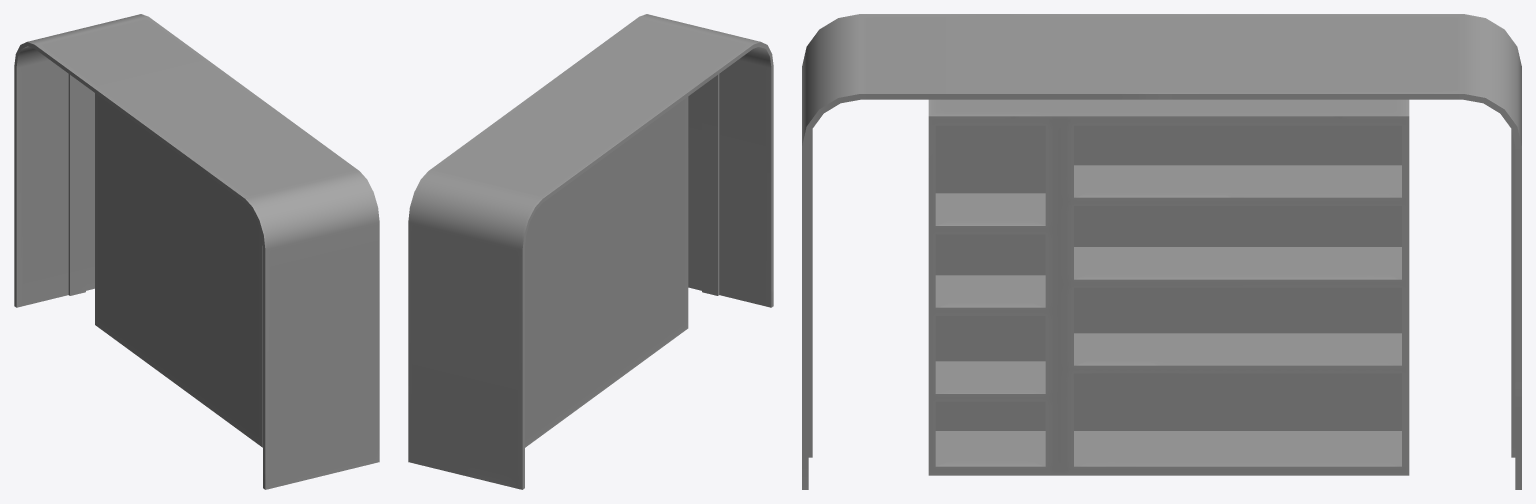
File: ShowRack.fbx
3 views of the same model, side by side, from view 1: azimuth 30°, elevation 25°; view 2: azimuth 150°, elevation 25°; view 3: azimuth 270°, elevation 25° (orthographic). The views are drawn at different scales.
Visible parts, largest first — view 1: ShowRack; view 2: ShowRack; view 3: ShowRack.
Boxes of the visible parts, x1=… form: ShowRack: x1=14, y1=14, x2=379, y2=489; ShowRack: x1=408, y1=14, x2=773, y2=489; ShowRack: x1=802, y1=14, x2=1521, y2=489.
Bounding box in the file's own units: 129 × 297 × 489.
1 material, 1 textured.
